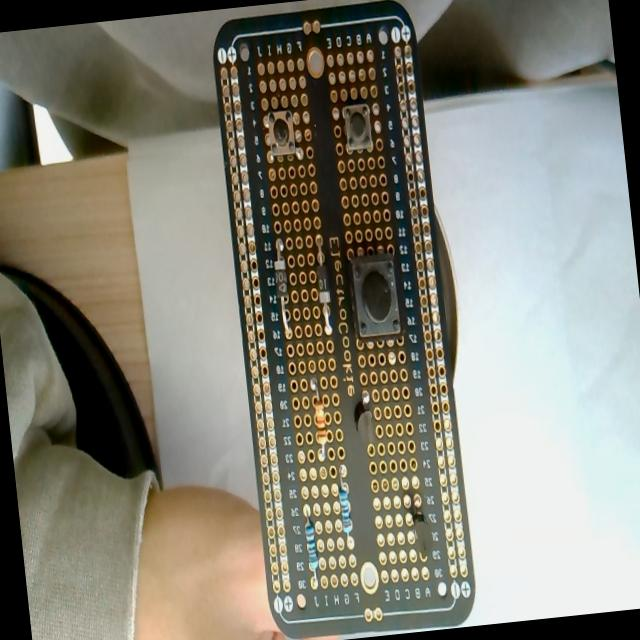diode: (270, 236, 292, 326), (313, 246, 334, 336)
resistor: (307, 383, 332, 463), (302, 518, 320, 590), (336, 464, 354, 533)
switch: (348, 250, 403, 340), (341, 100, 374, 154), (265, 108, 298, 159)
transistor: (404, 494, 436, 560), (352, 386, 380, 456)
